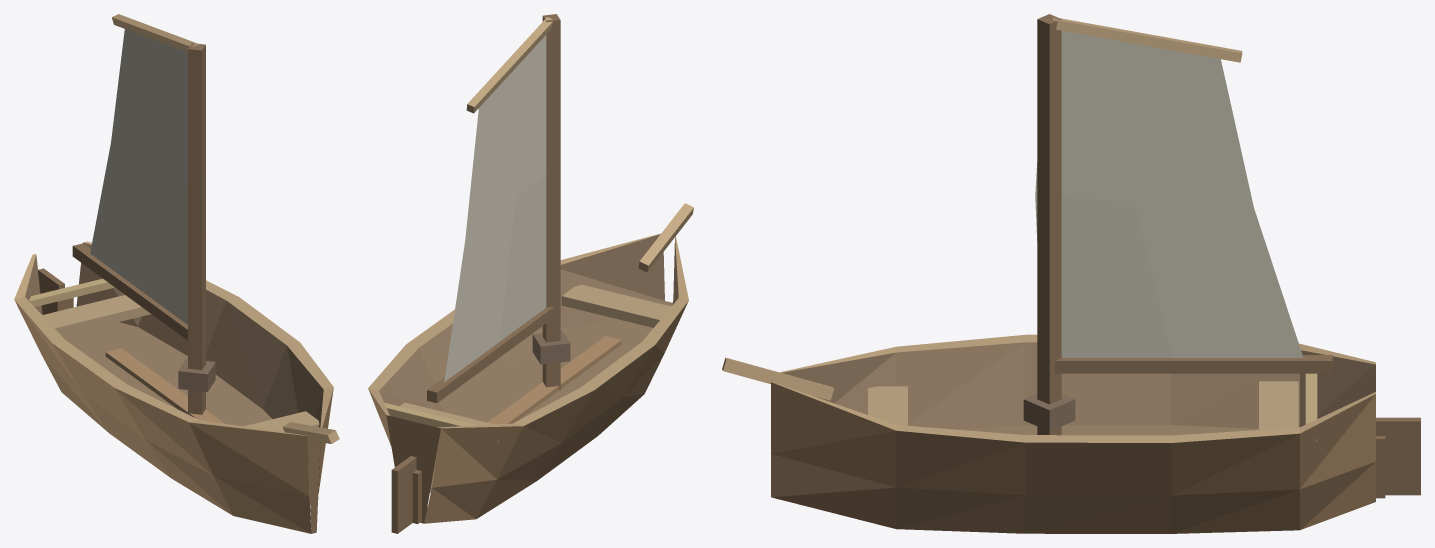
The picture shows the model from 3 angles, left to right: view 1: azimuth 30°, elevation 25°; view 2: azimuth 150°, elevation 25°; view 3: azimuth 270°, elevation 25°; orthographic projection. The views are drawn at different scales.
Visible parts, largest first — view 1: Body, SailCloth, Boom, RudderPivot; view 2: Body, SailCloth, Boom, RudderPivot; view 3: Body, SailCloth, Boom, RudderPivot.
Boxes of the visible parts, x1=… form: Body: x1=14, y1=43, x2=339, y2=533; SailCloth: x1=90, y1=29, x2=202, y2=324; Boom: x1=72, y1=14, x2=198, y2=340; RudderPivot: x1=38, y1=268, x2=64, y2=314; Body: x1=368, y1=14, x2=693, y2=523; SailCloth: x1=444, y1=35, x2=546, y2=381; Boom: x1=427, y1=17, x2=554, y2=403; RudderPivot: x1=391, y1=456, x2=416, y2=533; Body: x1=722, y1=14, x2=1385, y2=533; SailCloth: x1=1035, y1=31, x2=1303, y2=357; Boom: x1=1052, y1=17, x2=1332, y2=373; RudderPivot: x1=1376, y1=417, x2=1420, y2=495.
Bounding box in the file's own units: 2.2 × 4.67 × 5.97.
